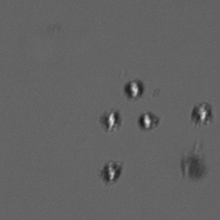Living Cell: (99, 161, 124, 185), (190, 100, 213, 126), (101, 108, 122, 131), (137, 110, 160, 130), (123, 79, 145, 98)
